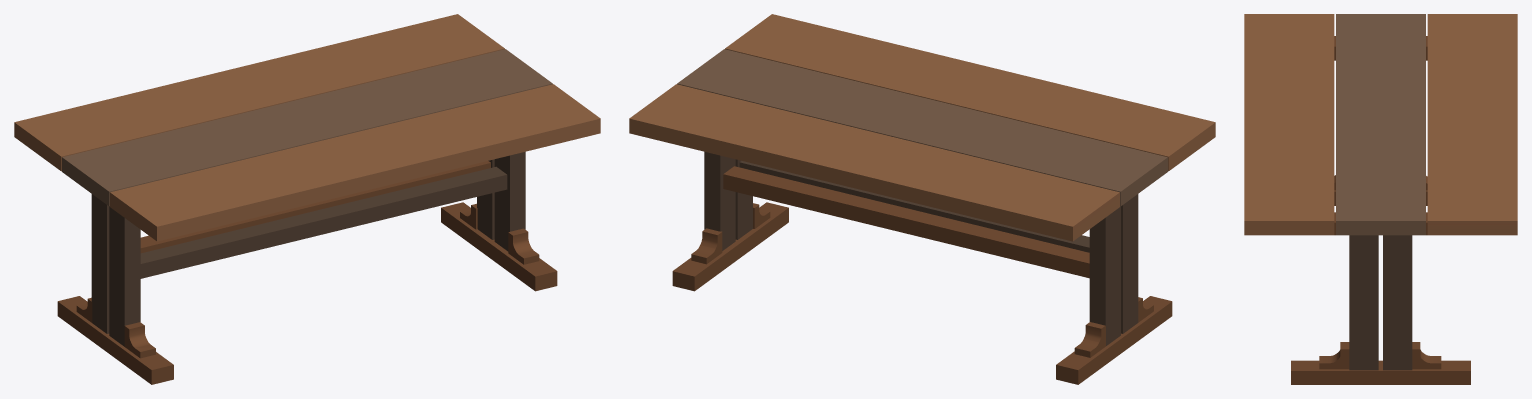
Rendered from SM Table.fbx.
3 renders of one model, left to right at view 1: azimuth 30°, elevation 25°; view 2: azimuth 150°, elevation 25°; view 3: azimuth 270°, elevation 25°, orthographic. The views are drawn at different scales.
Visible parts, largest first — view 1: SM_Table; view 2: SM_Table; view 3: SM_Table.
Boxes of the visible parts, box(x1,y1,x2,y2) form: SM_Table: box(14, 14, 600, 384); SM_Table: box(629, 14, 1215, 384); SM_Table: box(1244, 14, 1517, 384).
Size of the model in its own units: 0.9528 by 0.3707 by 0.5314.
